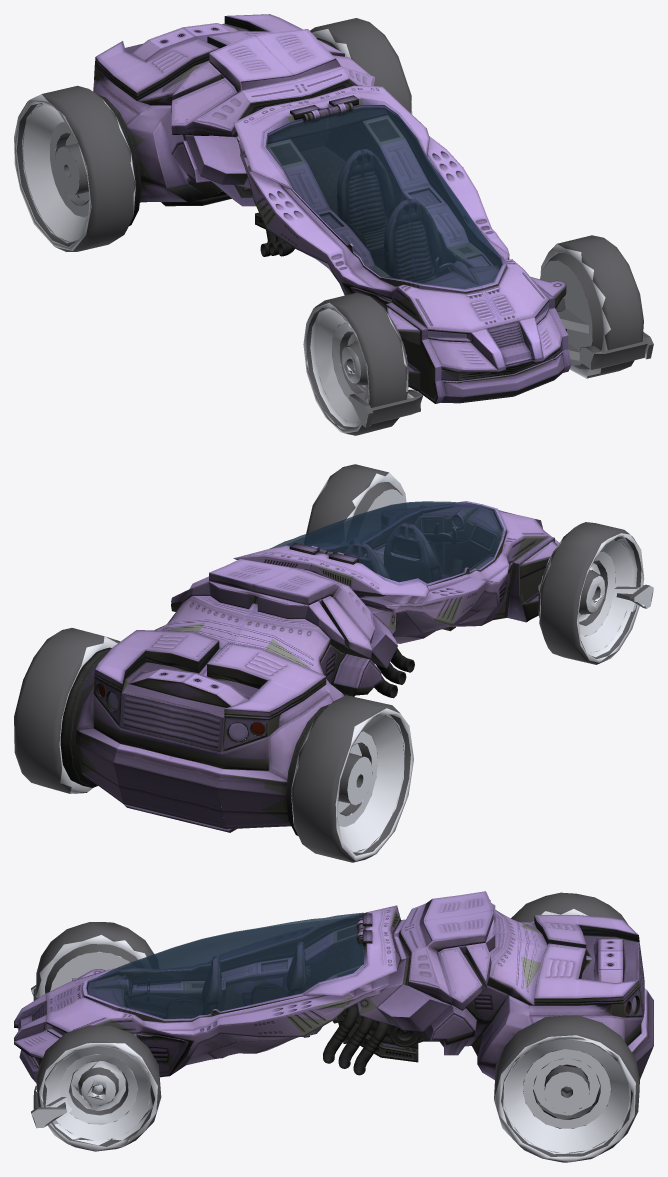
Rendered from concept.glb.
3 views of the same model, one above another, from view 1: azimuth 30°, elevation 25°; view 2: azimuth 150°, elevation 25°; view 3: azimuth 270°, elevation 25° (orthographic). The views are drawn at different scales.
Visible parts, largest first — view 1: concept; view 2: concept; view 3: concept.
Boxes of the visible parts, x1,y1,x2,y2 form: concept: [14, 14, 653, 435]; concept: [14, 464, 653, 862]; concept: [14, 891, 653, 1162].
Bounding box in the file's own units: 2.41 × 1.46 × 4.6.
Materials: 6 (2 with a texture image).
